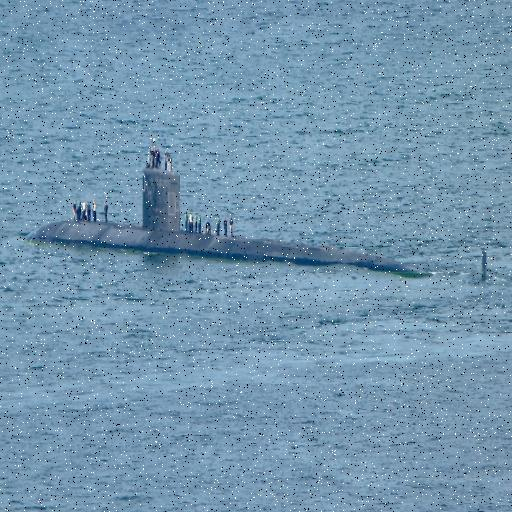submarine: (28, 167, 489, 282)
